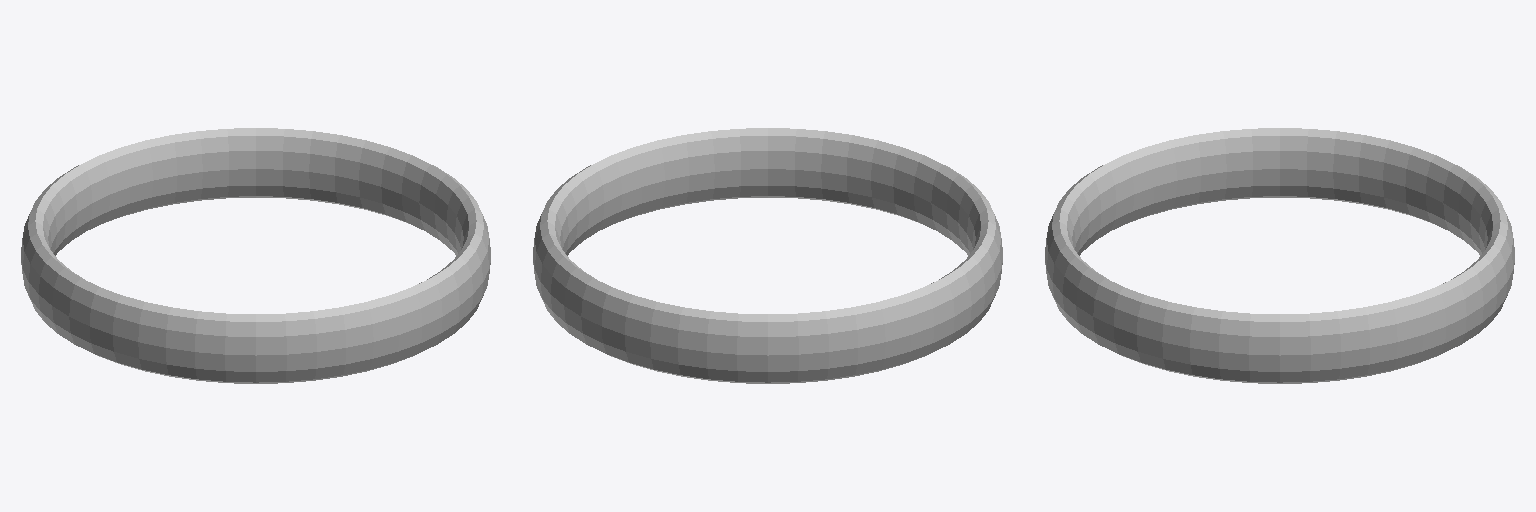
File: wave.obj
3 renders of one model, left to right at view 1: azimuth 30°, elevation 25°; view 2: azimuth 150°, elevation 25°; view 3: azimuth 270°, elevation 25°, orthographic.
Parts seen in each view (by area): view 1: Torus; view 2: Torus; view 3: Torus.
Part boxes in pixels (left/top/right/bottom): Torus: left=21, top=128, right=490, bottom=383; Torus: left=533, top=128, right=1002, bottom=383; Torus: left=1045, top=128, right=1514, bottom=383.
Bounding box in the file's own units: 2.13 × 0.3484 × 2.13.